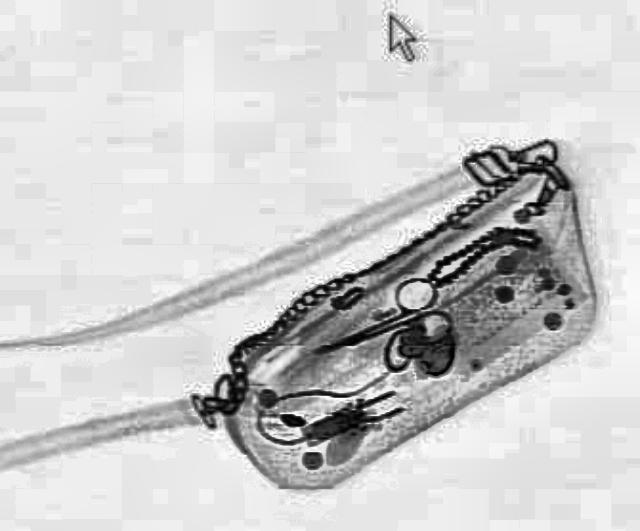Scissors: (295, 270, 463, 378)
